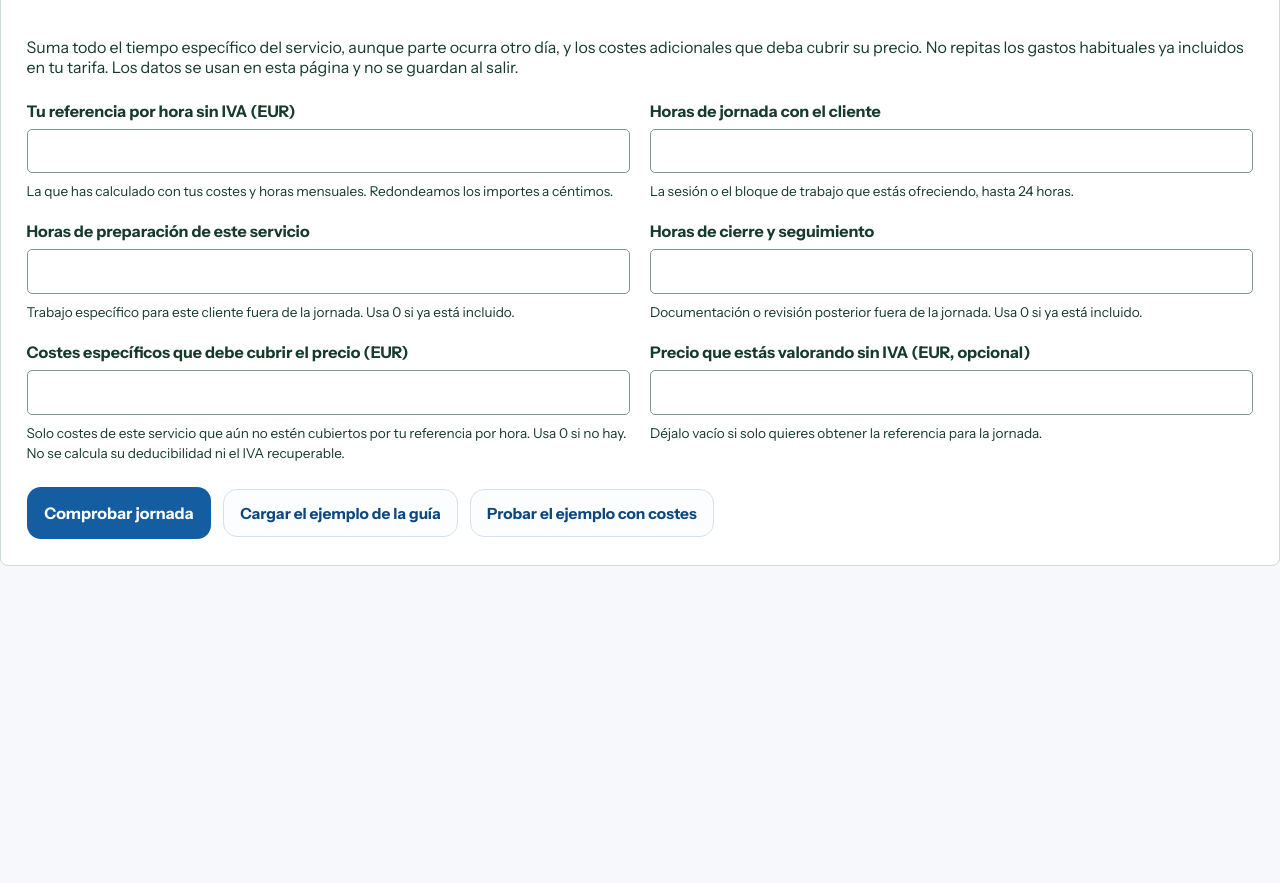
Test: day-rate planner › subtracts only specific costs before comparing hourly amounts, and clears edited results
The image size is (1280, 883).
Click the button "Probar el ejemplo con costes" at [592, 513], box [470,489,714,537]
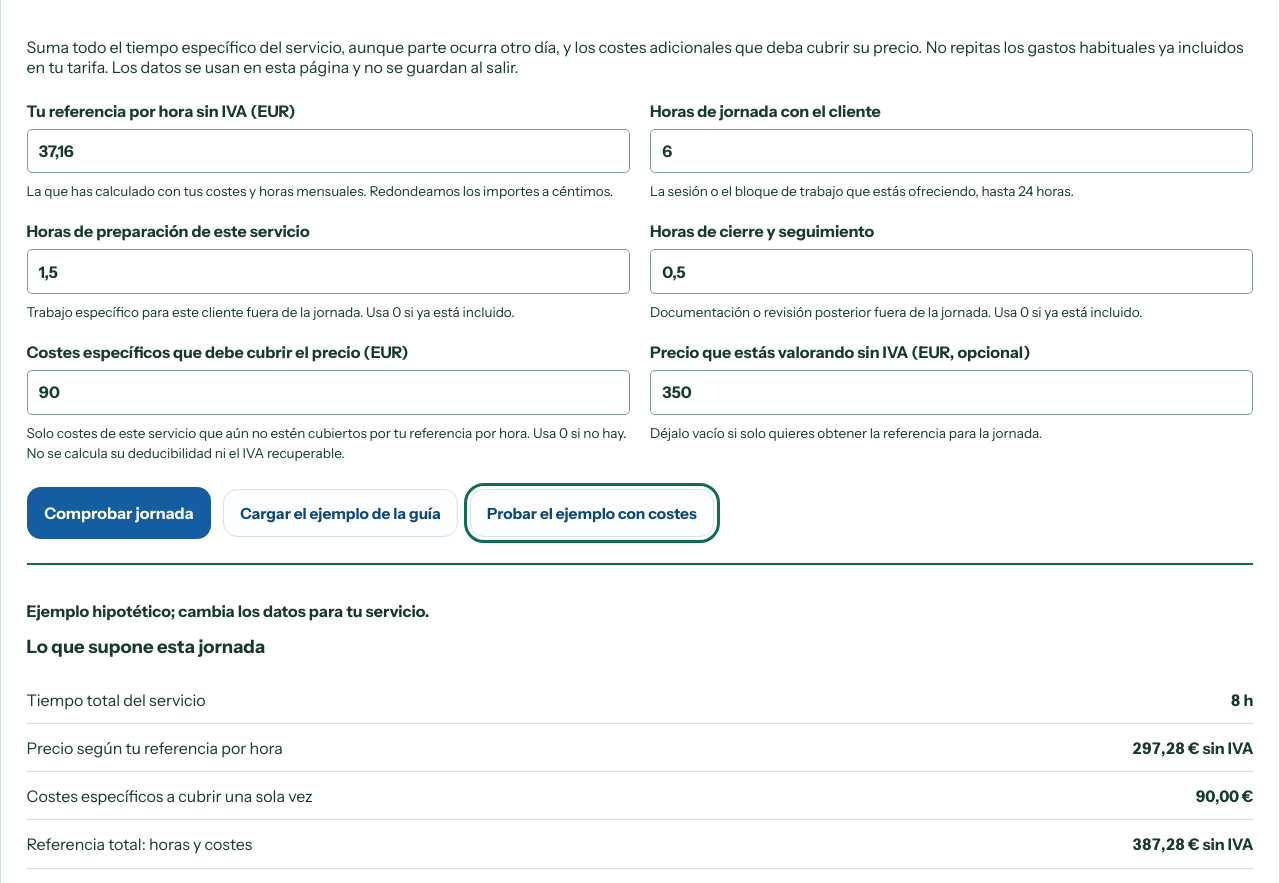
Expected: the message named "Comprobación de jornada y costes" shows "387,28", [1132,834,1200,854]
Replace the text in the field labelled "Costes específicos que debe cubrir el precio (EUR)" with "0" at [328, 392], box [27,370,630,414]
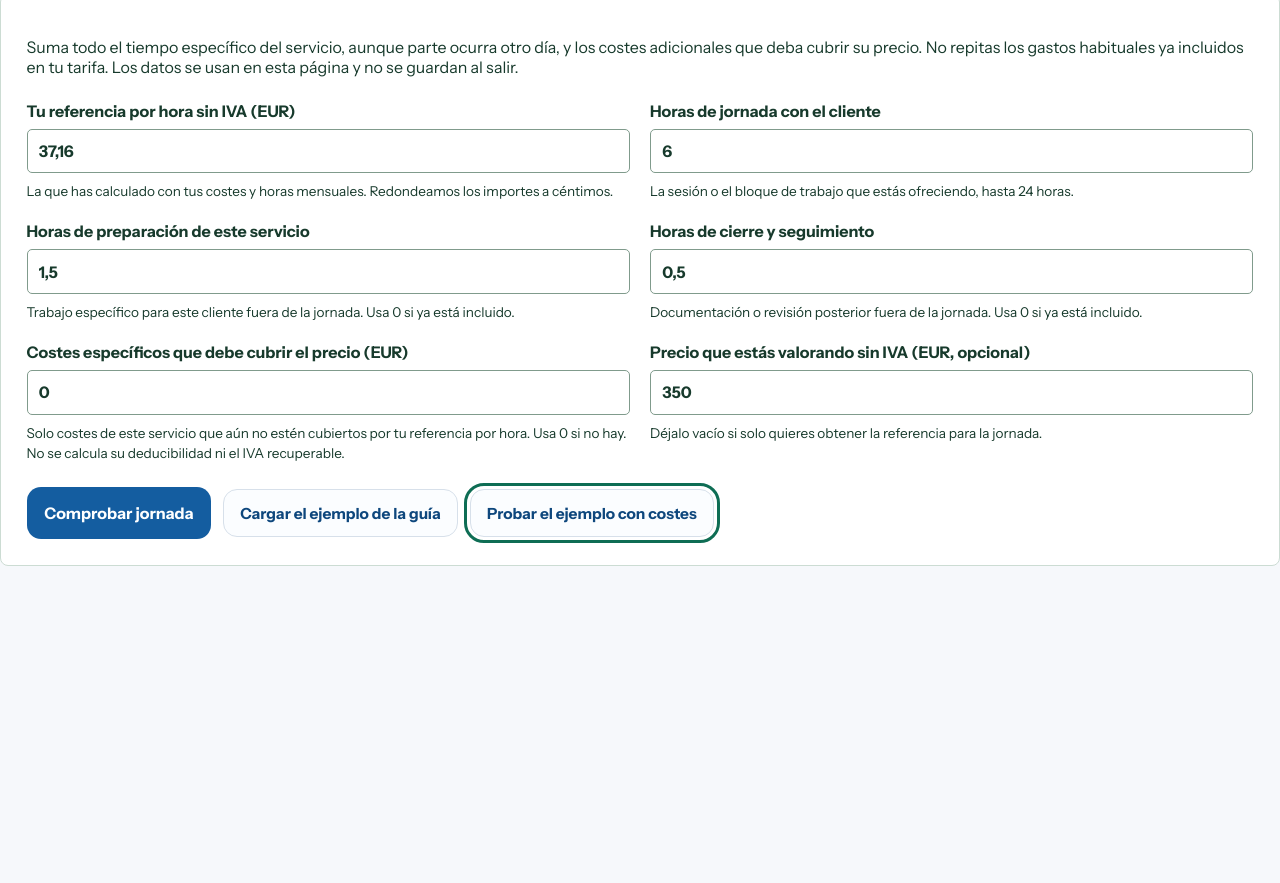
Click the button "Comprobar jornada" at [119, 513], box [27,487,211,539]
(page scrolled)
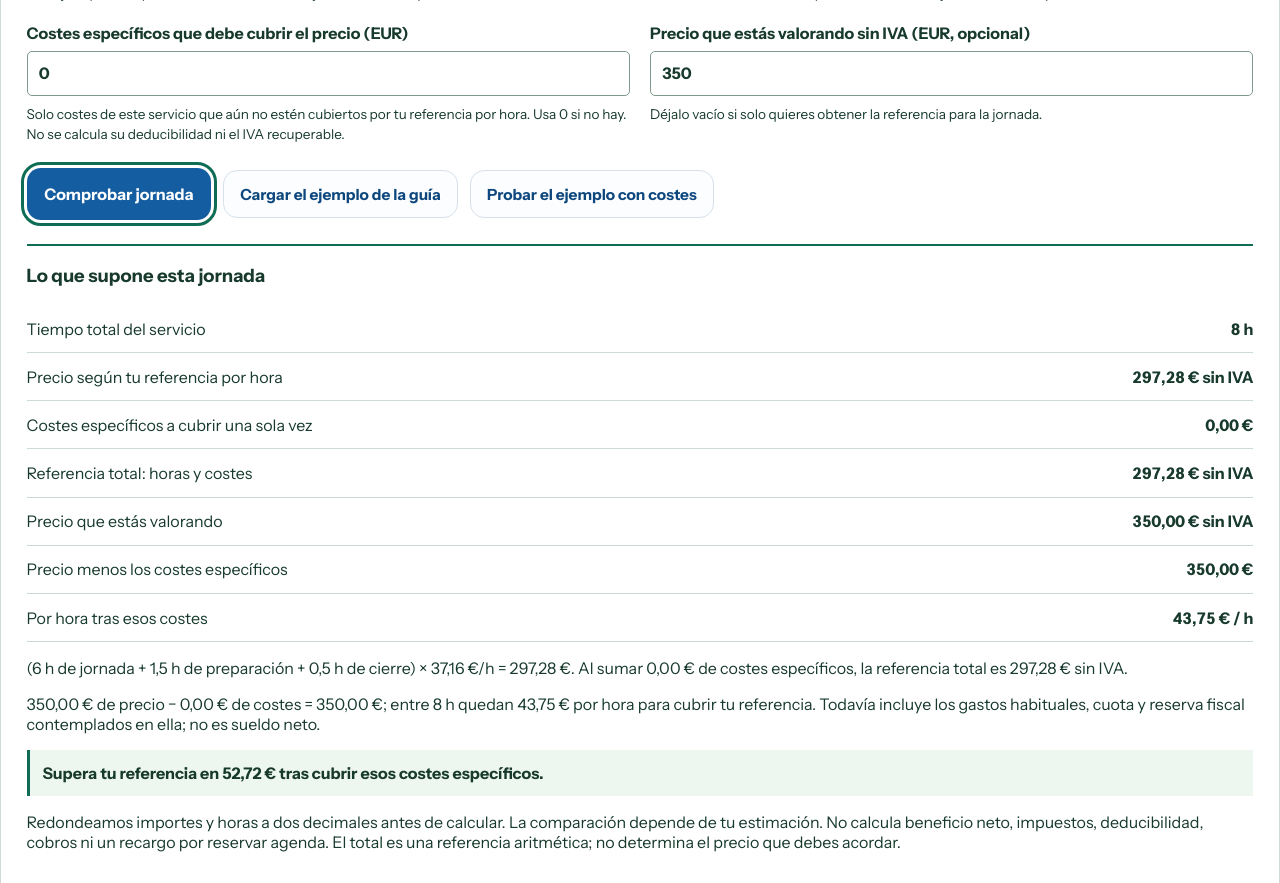
Expected: the message named "Comprobación de jornada y costes" does not show "Ejemplo hipotético"
Expected: the message named "Comprobación de jornada y costes" shows "43,75", [1173,608,1230,628]
